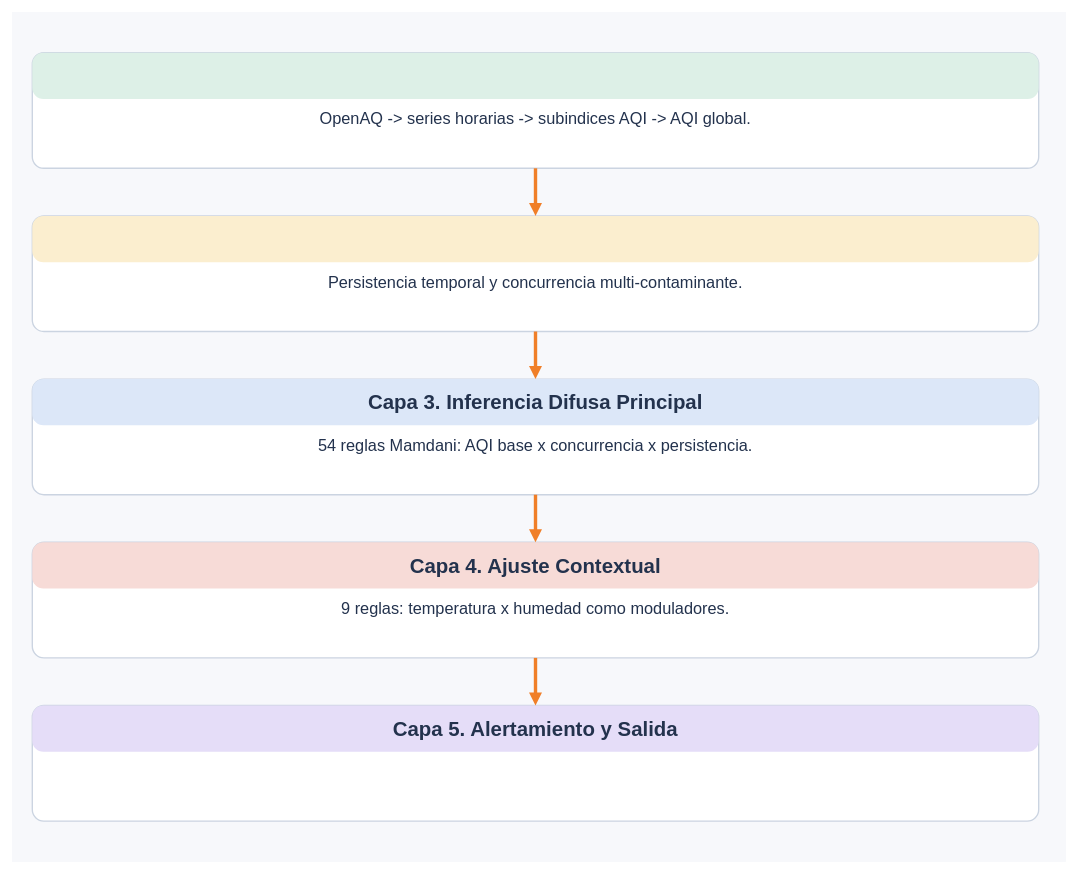
The diagram is 1077 pixels wide and 873 high, and some of its shapes have lost their labels. The shapes that lost their labels are listed below. From the top down, each one's box as (x1, y1, x2, y2) in pixels, then its label:
(32, 52, 1038, 99): Capa 1. Consolidacion Normativa
(32, 216, 1038, 262): Capa 2. Variables Auxiliares
(31, 704, 1039, 821): Clasificacion EPA, mensaje interpretable y JSON trazable.
